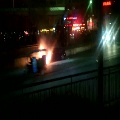fire: (38, 45, 51, 64)
